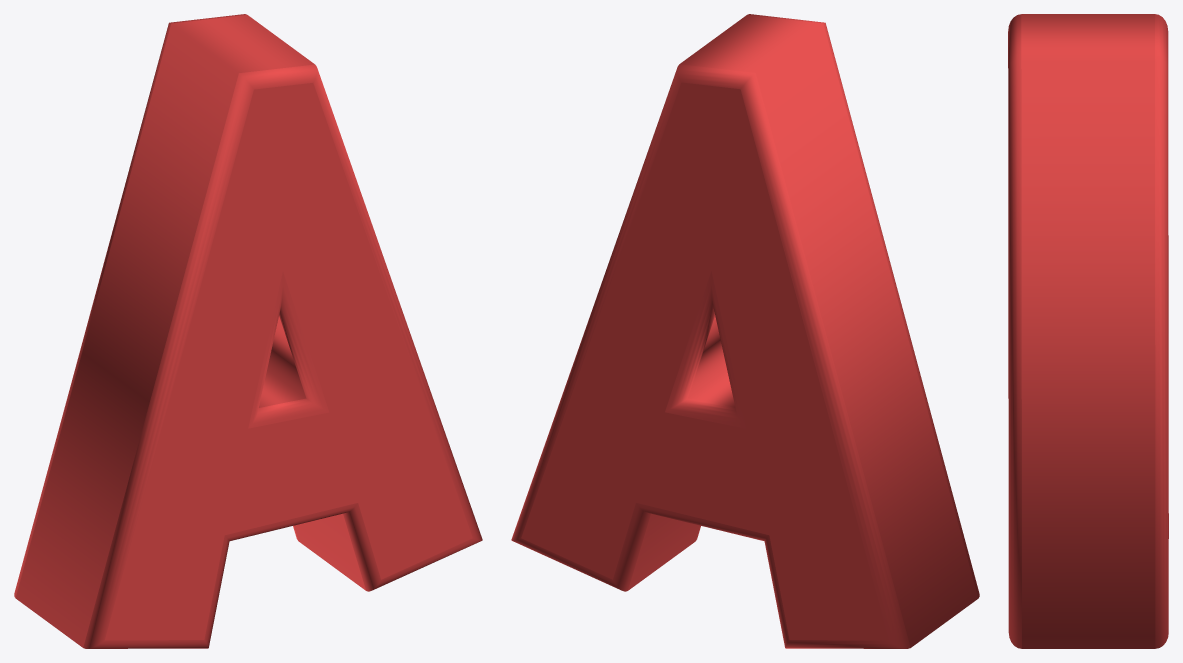
File: hurufA.fbx
3 renders of one model, left to right at view 1: azimuth 30°, elevation 25°; view 2: azimuth 150°, elevation 25°; view 3: azimuth 270°, elevation 25°, orthographic.
Parts seen in each view (by area): view 1: Text; view 2: Text; view 3: Text.
Part boxes in pixels (x1,y1,x2,y2): Text: (14,14,482,648); Text: (511,14,979,648); Text: (1008,14,1168,648).
Bounding box in the file's own units: 68.02 × 92.53 × 24.09.
